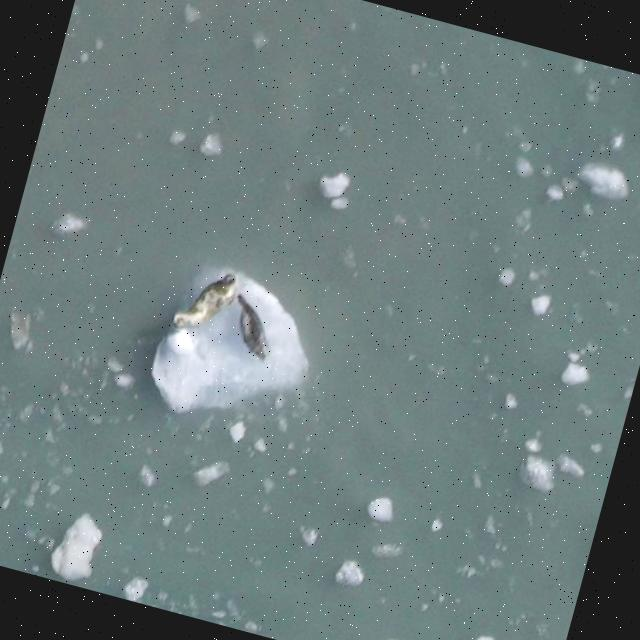seal: (165, 265, 252, 343), (230, 288, 273, 366)
